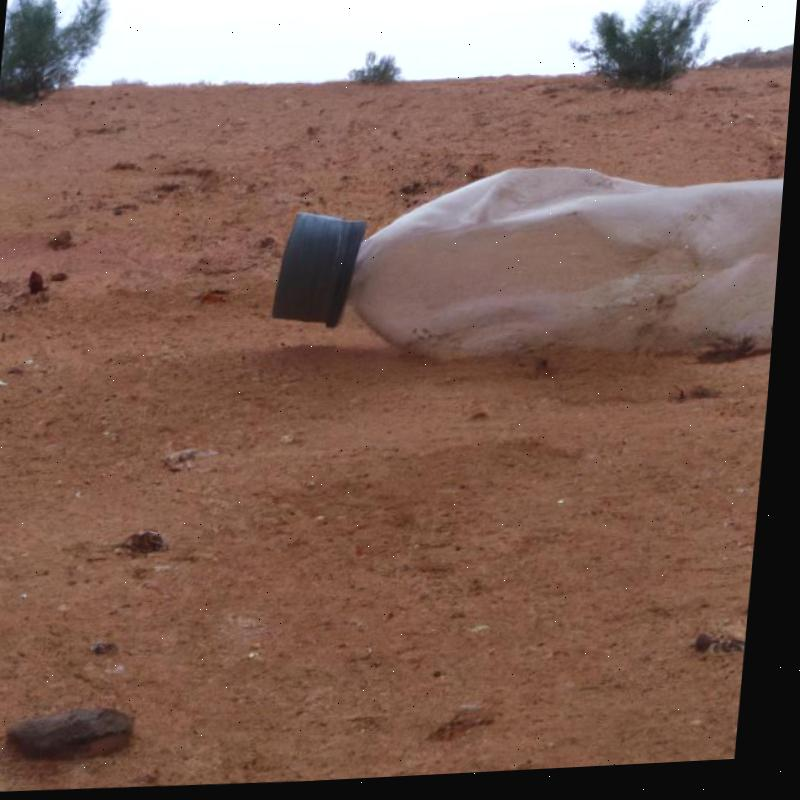botella: (262, 152, 789, 391)
